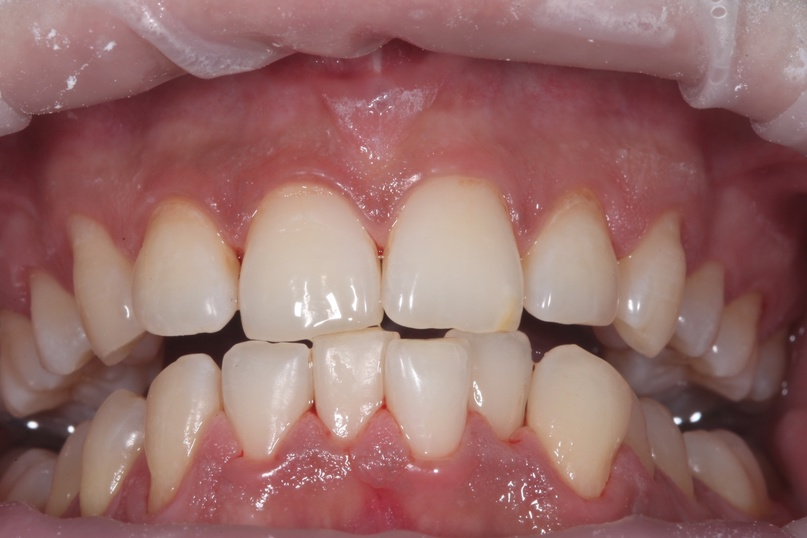LLCI_healthy: (380, 337, 472, 473)
LLC_healthy: (529, 341, 631, 475)
LLLI_healthy: (470, 337, 530, 445)
LR1BC_healthy: (78, 389, 144, 514)
LRCI_healthy: (315, 335, 387, 440)
LRC_healthy: (141, 352, 218, 513)
LRLI_healthy: (222, 341, 314, 460)
UL1BC_healthy: (681, 266, 720, 365)
ULCI_healthy: (383, 168, 524, 333)
ULC_healthy: (614, 217, 679, 354)
ULLI_healthy: (520, 198, 617, 331)
UR1BC_healthy: (21, 270, 94, 375)
URCI_healthy: (242, 170, 383, 340)
URC_healthy: (66, 210, 144, 365)
URLI_healthy: (132, 201, 240, 334)
